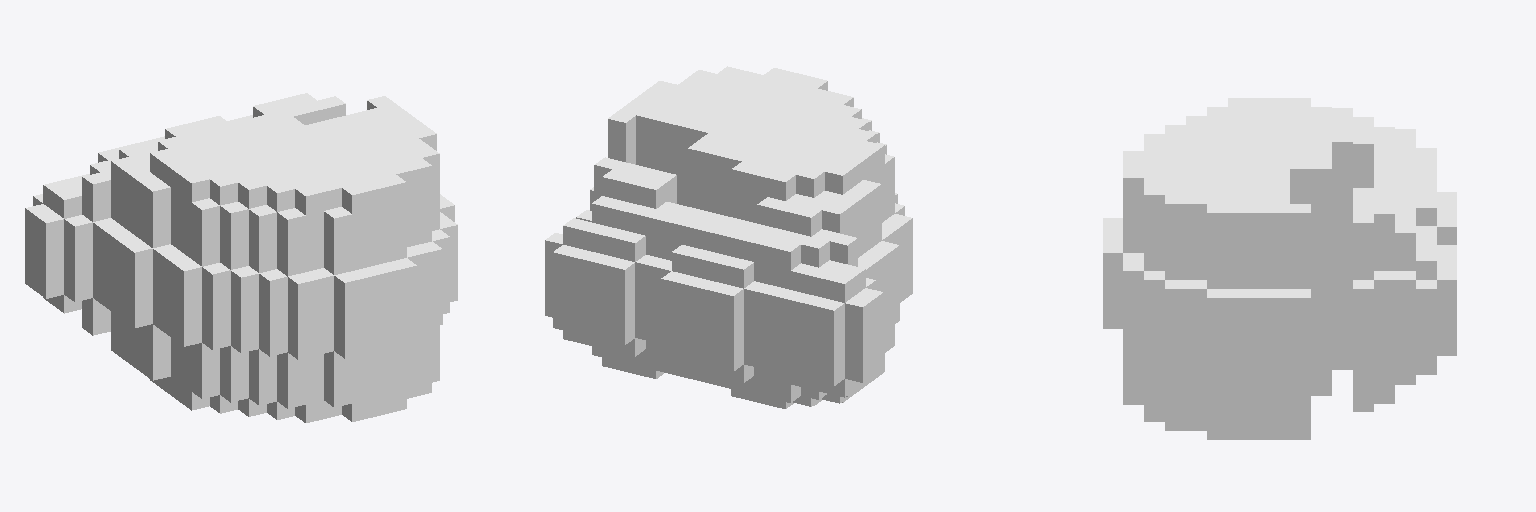
Rendered from monsta.obj.
The picture shows the model from 3 angles: view 1: azimuth 30°, elevation 25°; view 2: azimuth 150°, elevation 25°; view 3: azimuth 270°, elevation 25°; orthographic projection.
Visible parts, largest first — view 1: object 1; view 2: object 1; view 3: object 1.
Boxes of the visible parts, <box> form: object 1: <box>25,93,457,422</box>; object 1: <box>545,66,912,408</box>; object 1: <box>1103,98,1456,439</box>.
Size of the model in its own units: 1.8 by 1.2 by 1.7.